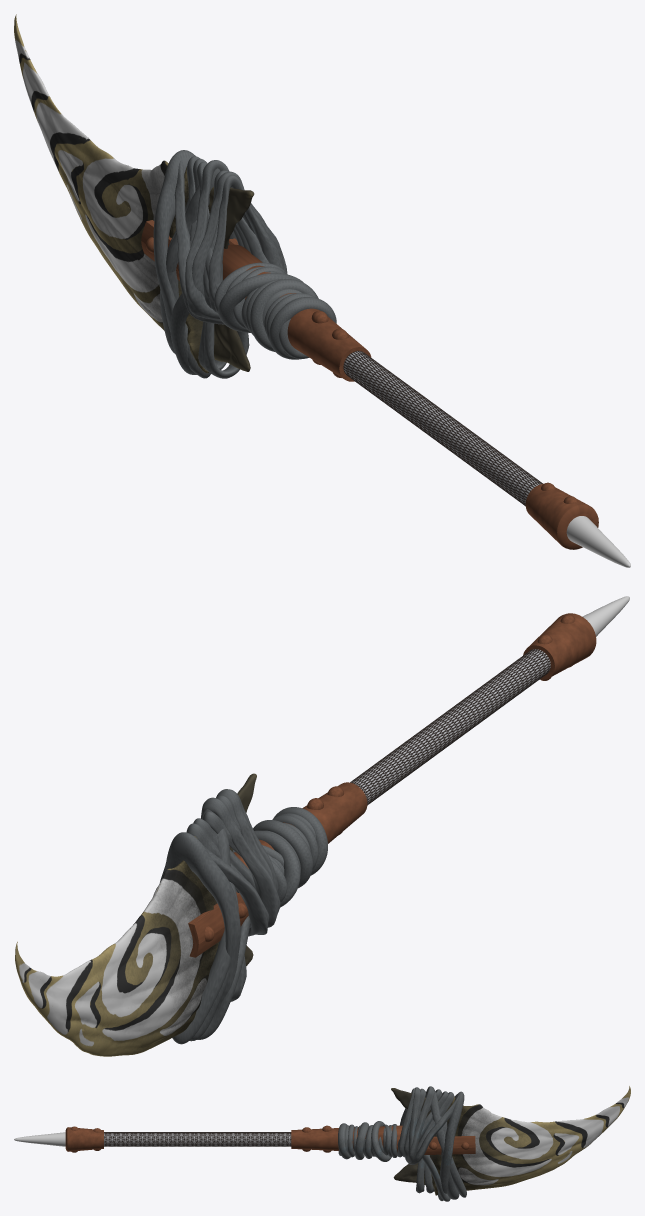
File: spear_level3.glb
The picture shows the model from 3 angles, top to bottom: view 1: azimuth 30°, elevation 25°; view 2: azimuth 150°, elevation 25°; view 3: azimuth 270°, elevation 25°; orthographic projection. The views are drawn at different scales.
Visible parts, largest first — view 1: Object_12, Object_10, Object_2, Object_9, Object_3, Object_6, Object_8, Object_4; view 2: Object_12, Object_10, Object_2, Object_3, Object_9, Object_8, Object_6, Object_7, Object_4; view 3: Object_12, Object_10, Object_2, Object_3, Object_9, Object_6, Object_8, Object_7, Object_4.
Part boxes in pixels (x1,y1,x2,y2): Object_12: (14, 14, 254, 373); Object_10: (153, 150, 318, 378); Object_2: (343, 351, 542, 505); Object_9: (204, 266, 336, 378); Object_3: (343, 351, 540, 502); Object_6: (222, 244, 371, 381); Object_8: (525, 483, 598, 549); Object_4: (566, 516, 630, 567); Object_12: (15, 773, 256, 1056); Object_10: (160, 789, 312, 1044); Object_2: (350, 649, 550, 805); Object_3: (351, 649, 550, 803); Object_9: (230, 807, 327, 1001); Object_8: (523, 613, 596, 679); Object_6: (233, 782, 367, 868); Object_7: (188, 892, 248, 957); Object_4: (582, 596, 629, 636); Object_12: (391, 1086, 630, 1195); Object_10: (355, 1086, 466, 1201); Object_2: (104, 1132, 291, 1146); Object_3: (104, 1133, 290, 1146); Object_9: (338, 1121, 424, 1193); Object_6: (291, 1125, 402, 1152); Object_8: (65, 1127, 103, 1151); Object_7: (424, 1136, 475, 1154); Object_4: (14, 1132, 65, 1146).
Size of the model in its own units: 3.56 by 7.92 by 38.4.
Materials: 9 (9 with a texture image).
